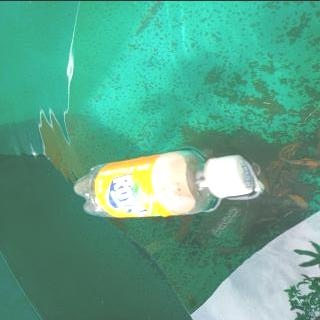bottle: (73, 148, 257, 218)
